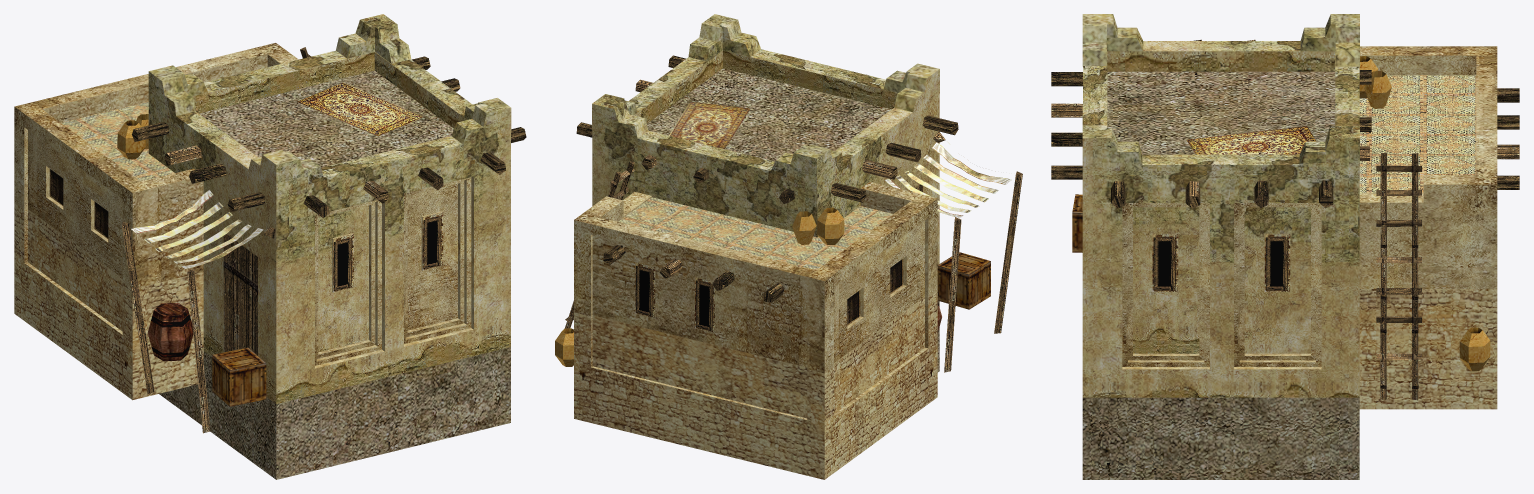
The model's file is pers_house_a.dae.
3 views of the same model, side by side, from view 1: azimuth 30°, elevation 25°; view 2: azimuth 150°, elevation 25°; view 3: azimuth 270°, elevation 25° (orthographic). The views are drawn at different scales.
Visible parts, largest first — view 1: House; view 2: House; view 3: House.
Part boxes in pixels (x1,y1,x2,y2): House: [14, 14, 526, 479]; House: [555, 14, 1022, 479]; House: [1051, 14, 1519, 479].
Size of the model in its own units: 15.1 by 16.04 by 12.93.
